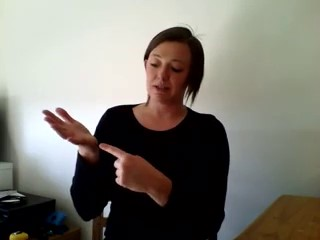T: (40, 104, 154, 195)
